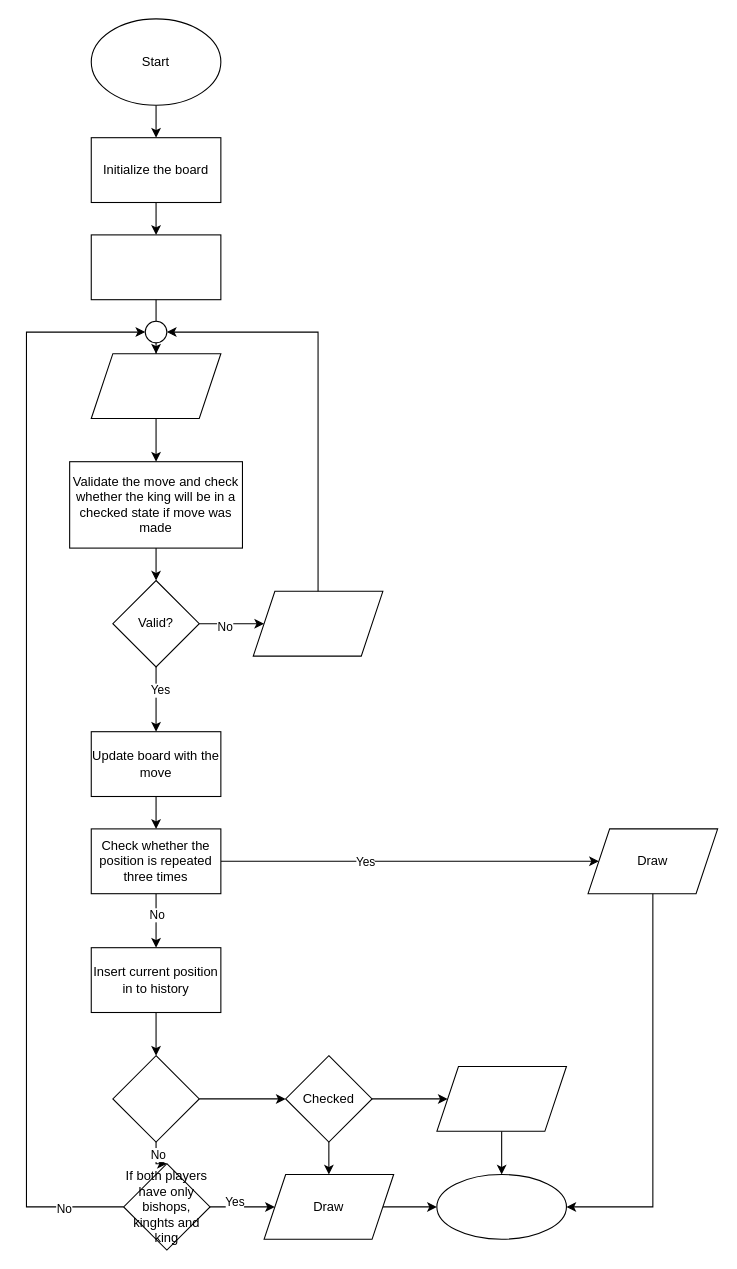
The diagram is 737 pixels wide and 1269 high, and some of its shapes have lost their labels. The centre of each missing label's shape, as x and y in pixels:
"Check for attacked squares by opponents pieces" goes at [155,267].
"End" goes at [501,1206].
"Error" goes at [317,623].
"If opponents king has no moves" goes at [155,1098].
"Lost" goes at [501,1098].
"Move" goes at [155,385].
